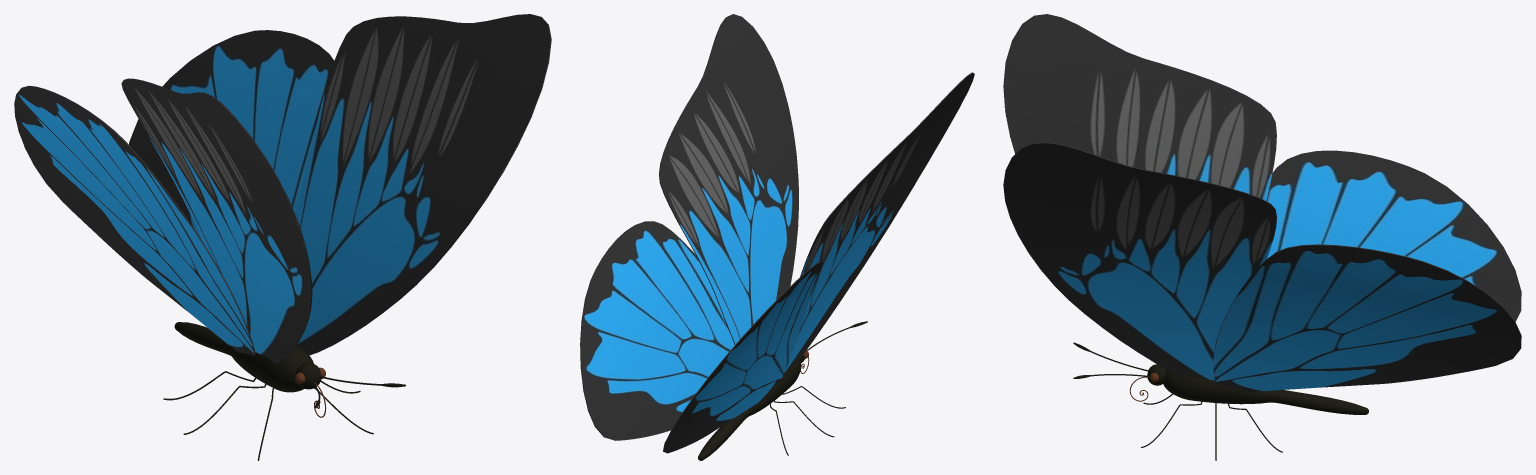
File: mariposa.glb
3 views of the same model, side by side, from view 1: azimuth 30°, elevation 25°; view 2: azimuth 150°, elevation 25°; view 3: azimuth 270°, elevation 25° (orthographic). The views are drawn at different scales.
Visible parts, largest first — view 1: Upper left, Upper right, Bottom right, Bottom left, Body; view 2: Upper left, Bottom left, Upper right, Bottom right, Body; view 3: Upper left, Bottom left, Upper right, Bottom right, Body.
Boxes of the visible parts, x1,y1,x2,y2 form: Upper left: (295, 14, 551, 355); Upper right: (121, 78, 312, 363); Bottom right: (14, 85, 255, 355); Bottom left: (129, 30, 334, 241); Body: (174, 322, 321, 392); Upper left: (659, 14, 798, 344); Bottom left: (580, 221, 734, 440); Upper right: (785, 72, 974, 372); Bottom right: (663, 261, 821, 453); Body: (698, 355, 804, 460); Upper left: (1003, 142, 1276, 380); Bottom left: (1213, 244, 1521, 392); Upper right: (1003, 14, 1276, 200); Bottom right: (1266, 150, 1521, 321); Body: (1147, 364, 1368, 414).
Bounding box in the file's own units: 0.0315 × 0.0397 × 0.0535.
4 materials, 2 textured.
